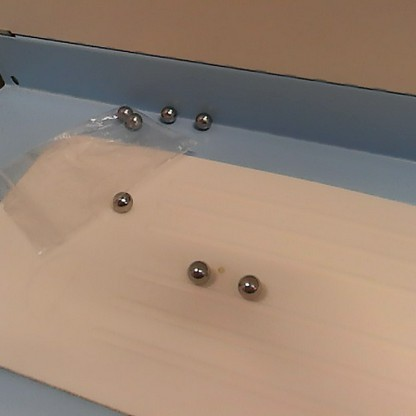ironball: (233, 270, 268, 303), (183, 255, 212, 287), (109, 187, 134, 213), (155, 101, 179, 124), (190, 109, 213, 132), (124, 111, 145, 131), (113, 102, 132, 117)
